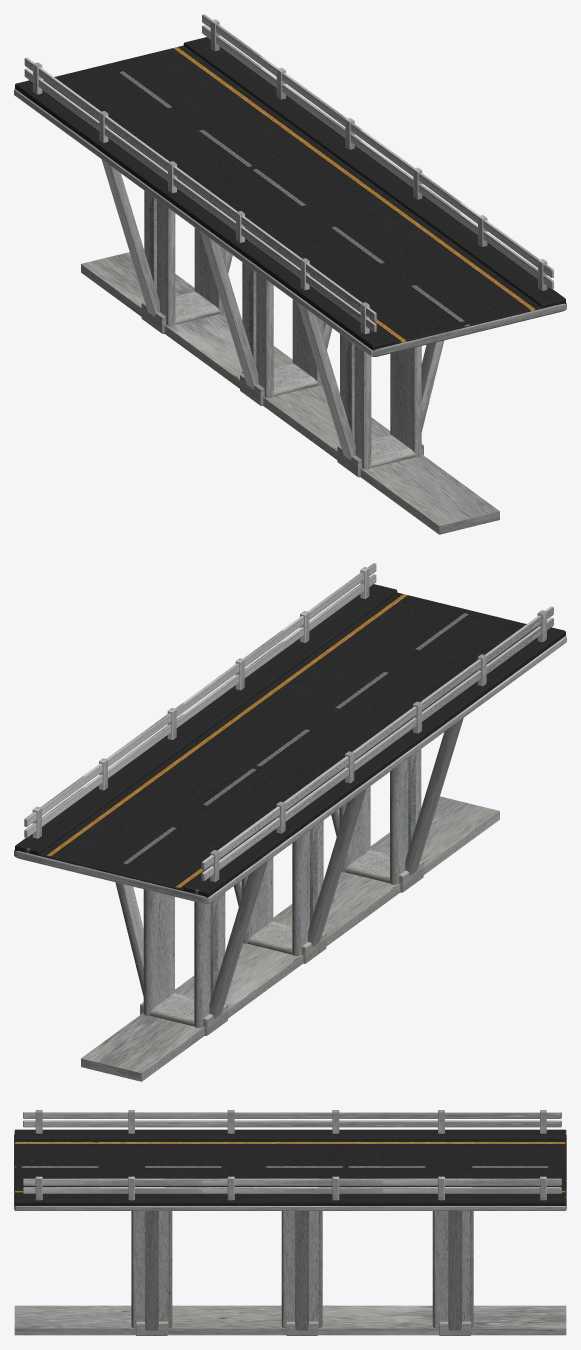
File: bridge_model.glb
3 views of the same model, one above another, from view 1: azimuth 30°, elevation 25°; view 2: azimuth 150°, elevation 25°; view 3: azimuth 270°, elevation 25° (orthographic). The views are drawn at different scales.
Visible parts, largest first — view 1: pCube88; view 2: pCube88; view 3: pCube88.
Part boxes in pixels (<box>): pCube88: <box>14,14,566,534</box>; pCube88: <box>14,563,566,1081</box>; pCube88: <box>14,1110,566,1335</box>.
Bounding box in the file's own units: 0.0385 × 0.0439 × 0.1223.
4 materials, 3 textured.
